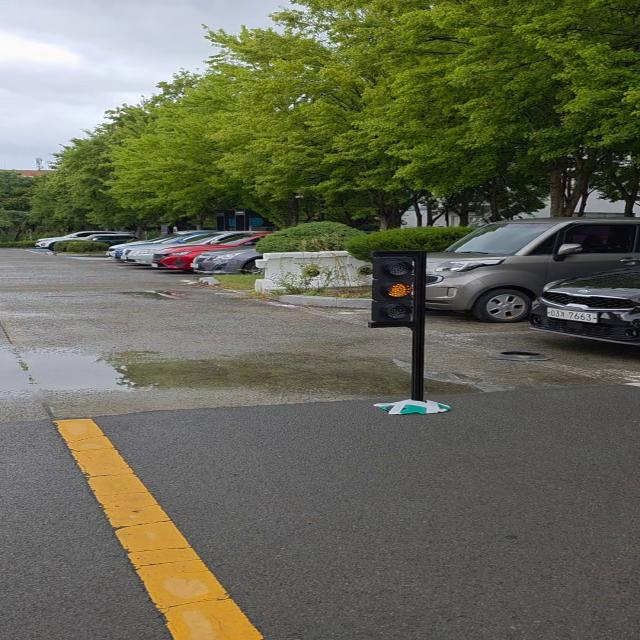yellow: (375, 250, 425, 328)
